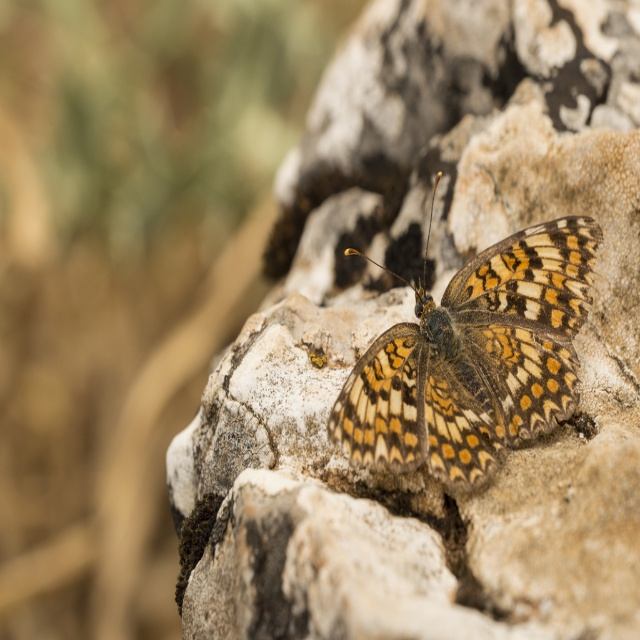Butterfly: (331, 181, 598, 497)
